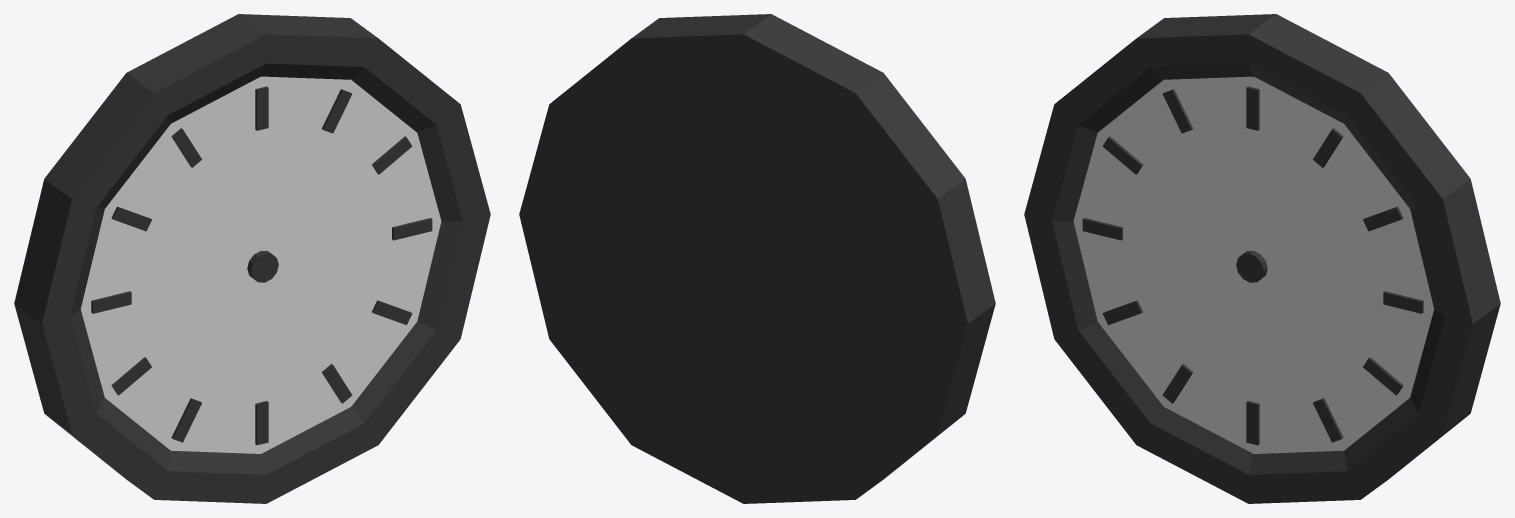
File: Clock1_C1.fbx
The picture shows the model from 3 angles, left to right: view 1: azimuth 30°, elevation 25°; view 2: azimuth 150°, elevation 25°; view 3: azimuth 330°, elevation 25°; orthographic projection.
Visible parts, largest first — view 1: Clock1_C1; view 2: Clock1_C1; view 3: Clock1_C1.
Part boxes in pixels (x1,y1,x2,y2): Clock1_C1: (14, 14, 490, 503); Clock1_C1: (519, 14, 995, 503); Clock1_C1: (1024, 14, 1500, 503).
Size of the model in its own units: 90.15 by 90.15 by 9.68.
